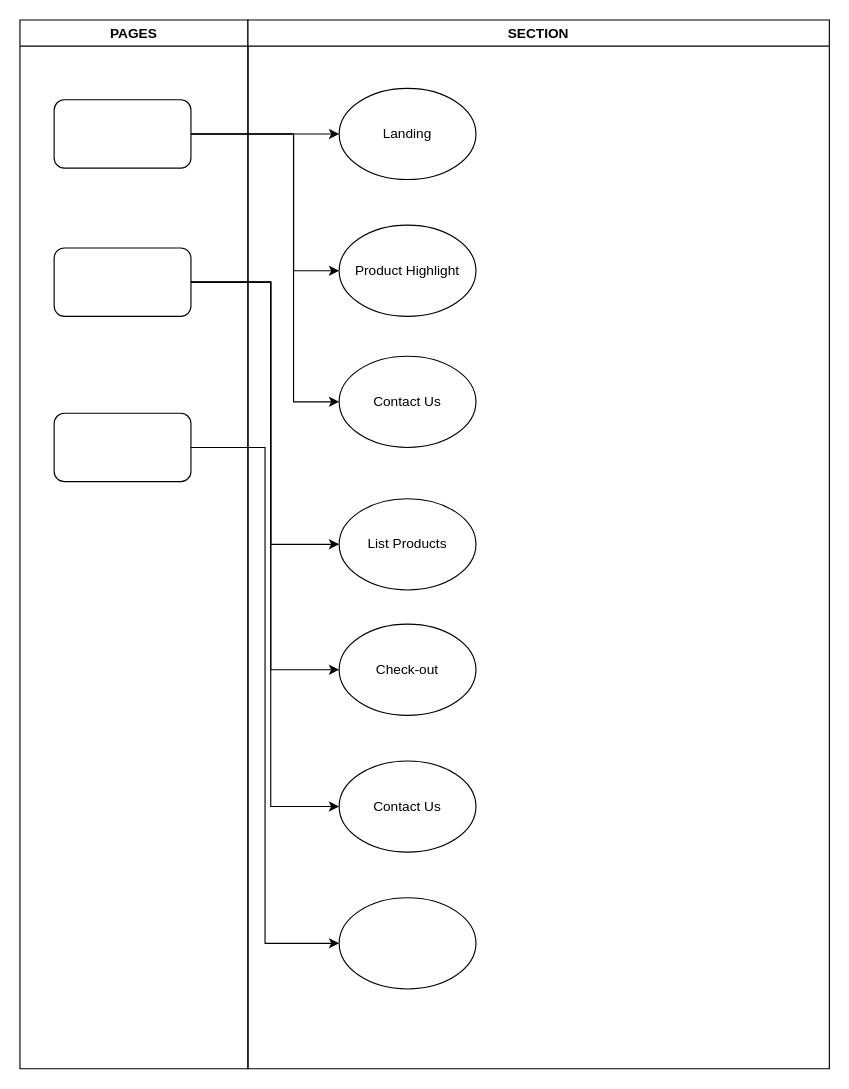
Image size: 849x1089. Some labels were removed from this diagram. Here are the shapes that lost their labels. From the top down, the centre of each, then its label:
At pixel 122 133: "Home".
At pixel 122 281: "Products".
At pixel 122 447: "About".
At pixel 407 943: "Developer Portfolio".
